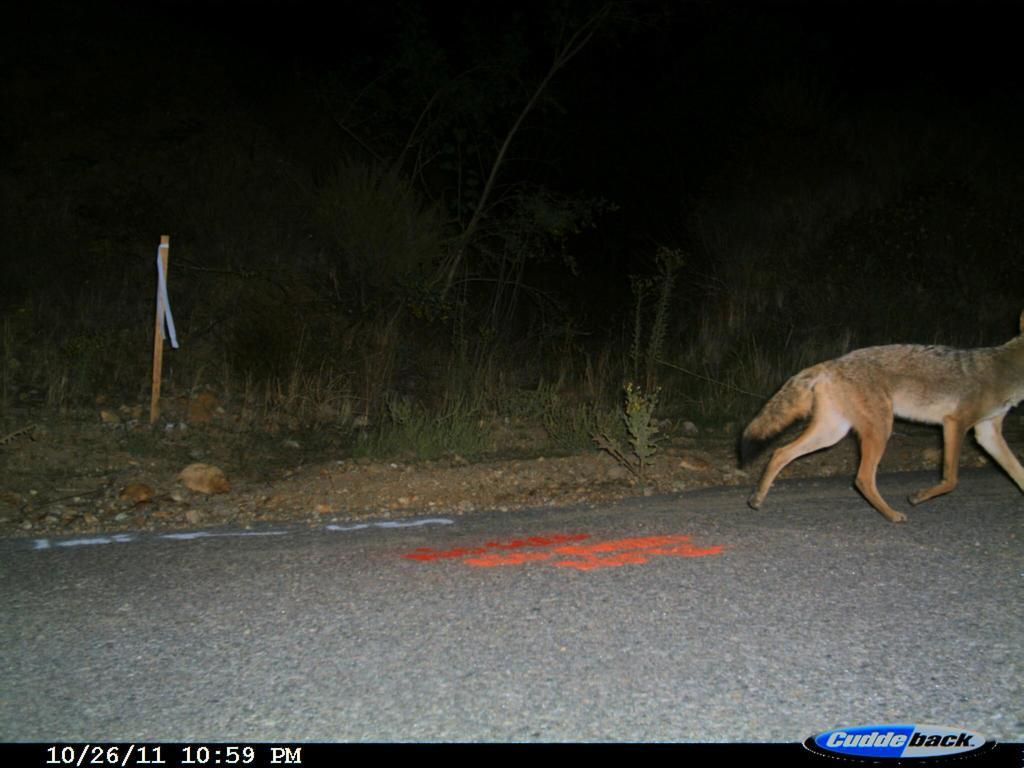coyote: (737, 315, 1022, 528)
